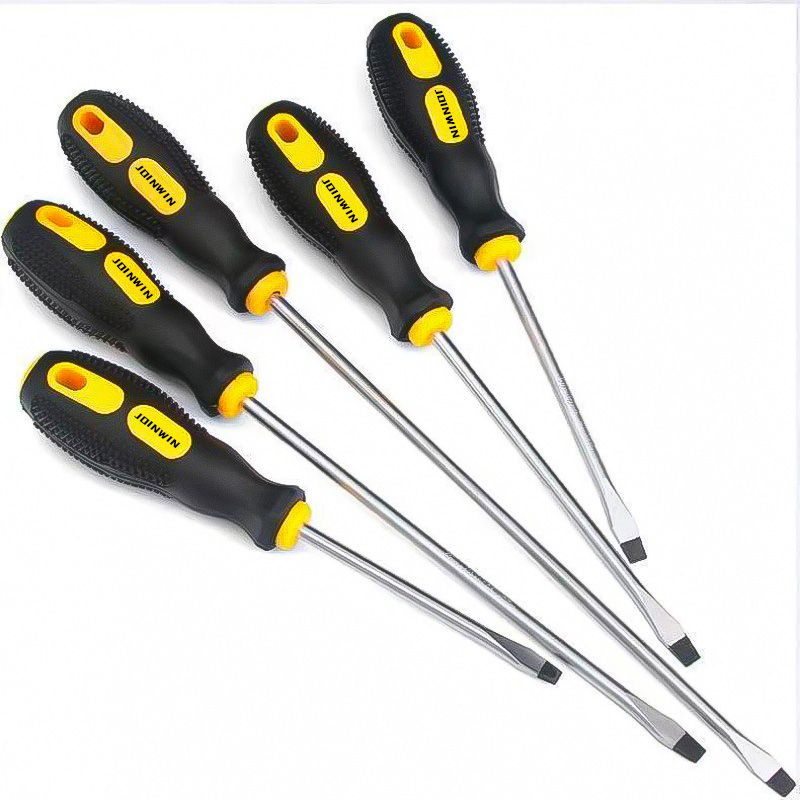screwdriver: (56, 85, 799, 793), (1, 198, 707, 766), (241, 98, 700, 666), (15, 347, 565, 687), (360, 10, 649, 564)
